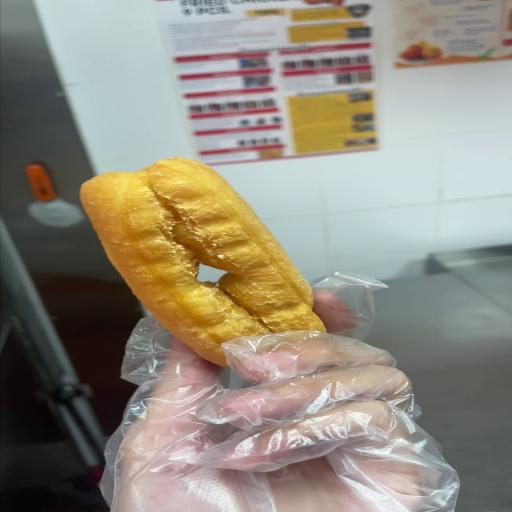brand_golden_defect: (80, 157, 325, 365)
